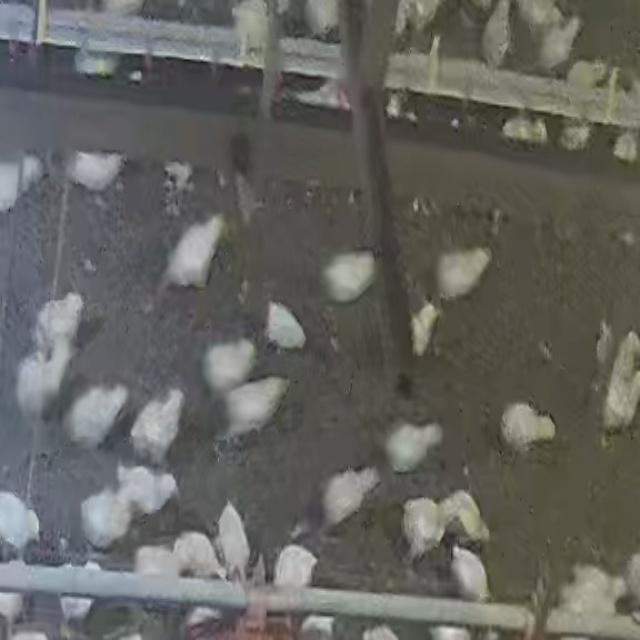chicken: (16, 332, 78, 428), (218, 374, 286, 444), (64, 379, 126, 451), (128, 388, 186, 464), (163, 215, 220, 289), (179, 530, 222, 622), (602, 332, 640, 434), (269, 547, 318, 625), (321, 466, 379, 529), (78, 488, 133, 550), (320, 248, 379, 304), (385, 418, 444, 474), (562, 567, 624, 620), (119, 462, 178, 517), (57, 562, 104, 629), (202, 337, 256, 395), (436, 246, 493, 299), (400, 494, 447, 558), (499, 401, 556, 453), (441, 487, 489, 548), (216, 502, 254, 578), (36, 291, 86, 348), (0, 488, 43, 553), (449, 544, 492, 604), (537, 12, 582, 69), (66, 148, 122, 192), (266, 298, 308, 349), (482, 0, 513, 66), (133, 544, 181, 580), (409, 302, 440, 357)
